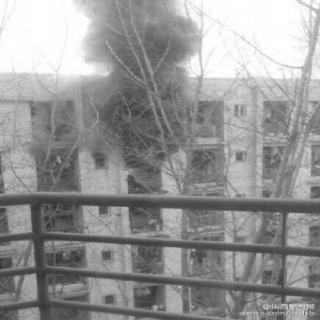Fire: (125, 167, 161, 185)
